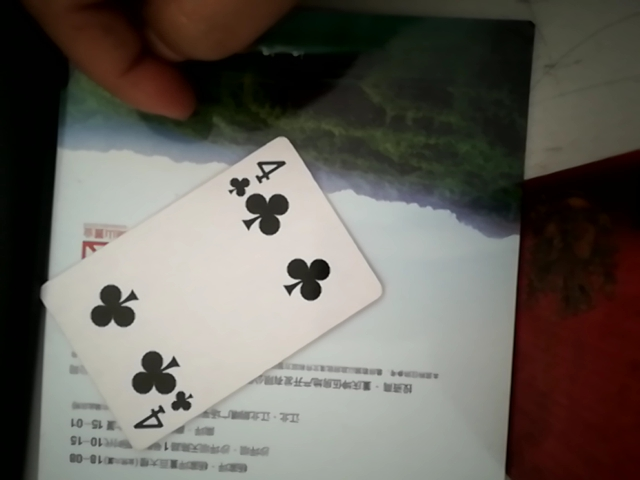mh 4: (47, 129, 380, 437)
